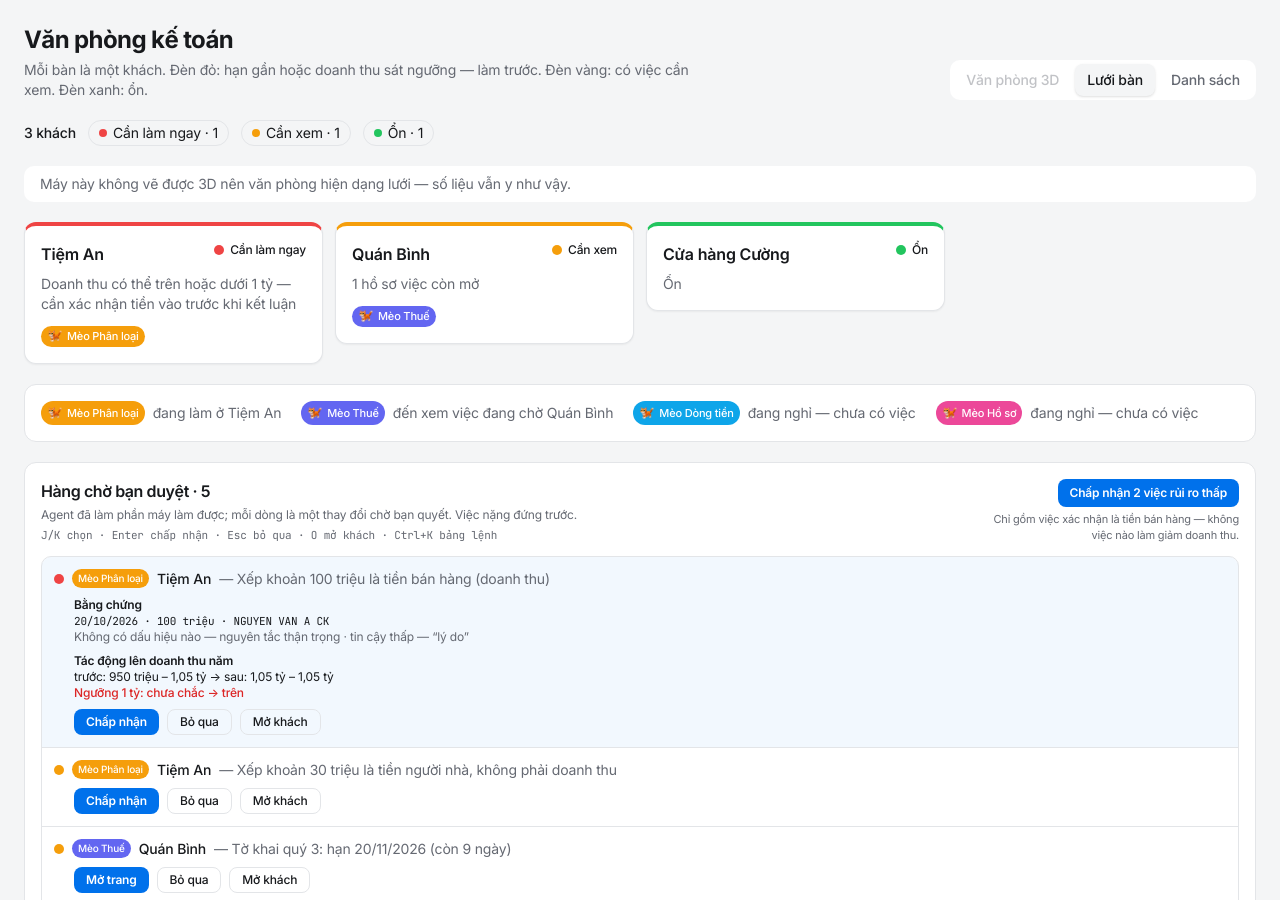
hàng duyệt kiểu Cursor › Ctrl+K mở bảng lệnh: gõ tên khách không dấu, Enter mở khách đó
Press k
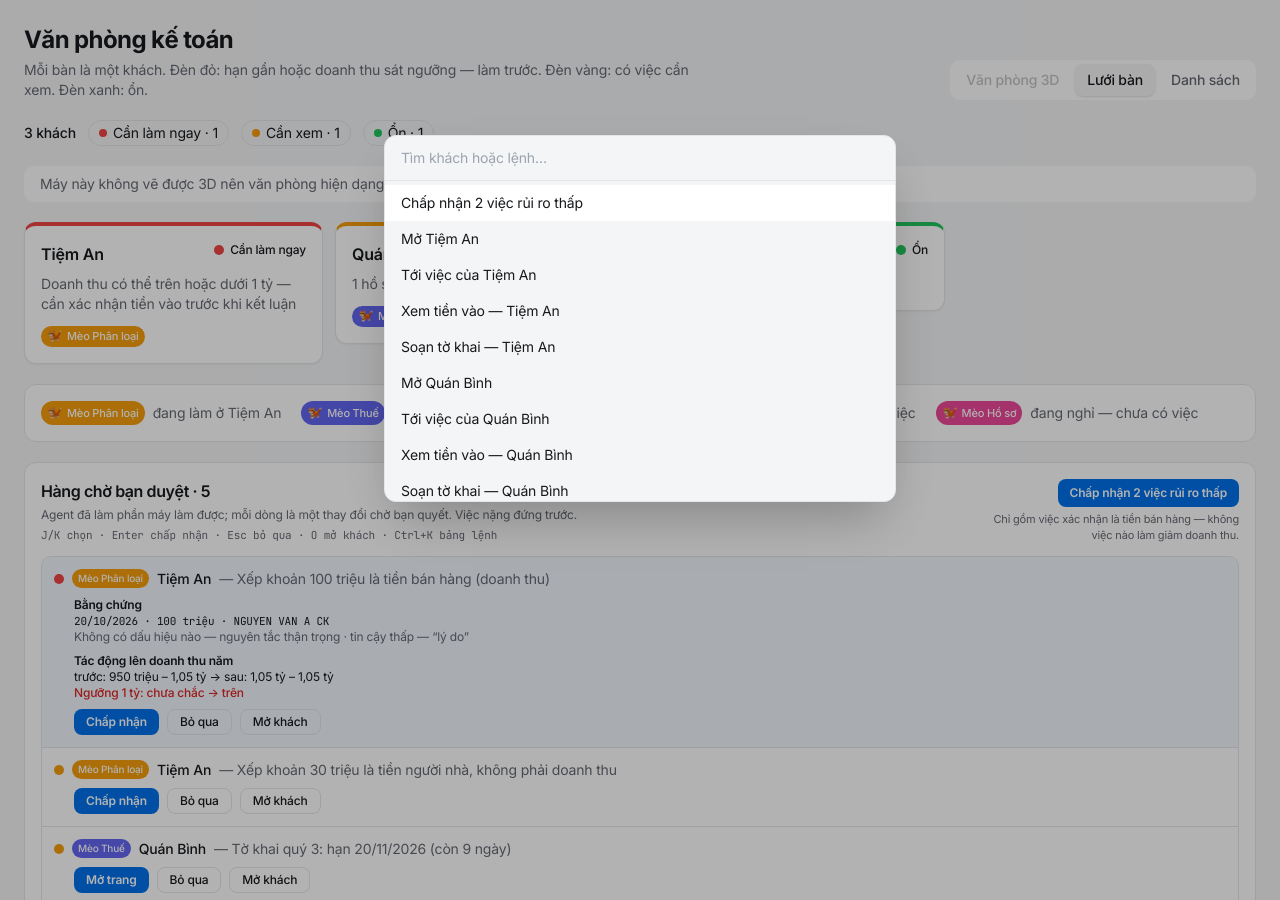
In the field: (640, 158) x1=385 y1=136 x2=895 y2=181, type "mo quan binh"
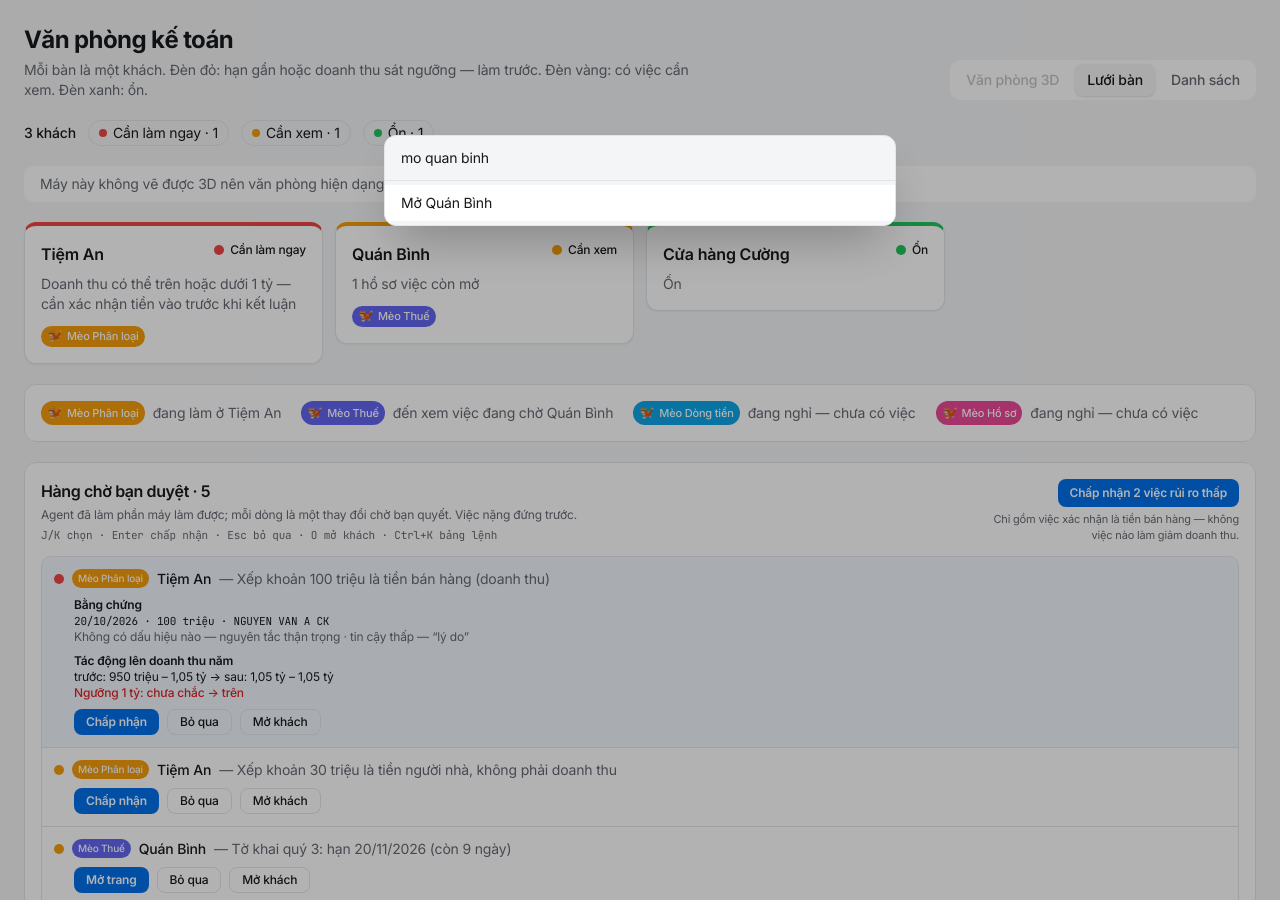
Press Enter in the field, box x1=385 y1=136 x2=895 y2=181
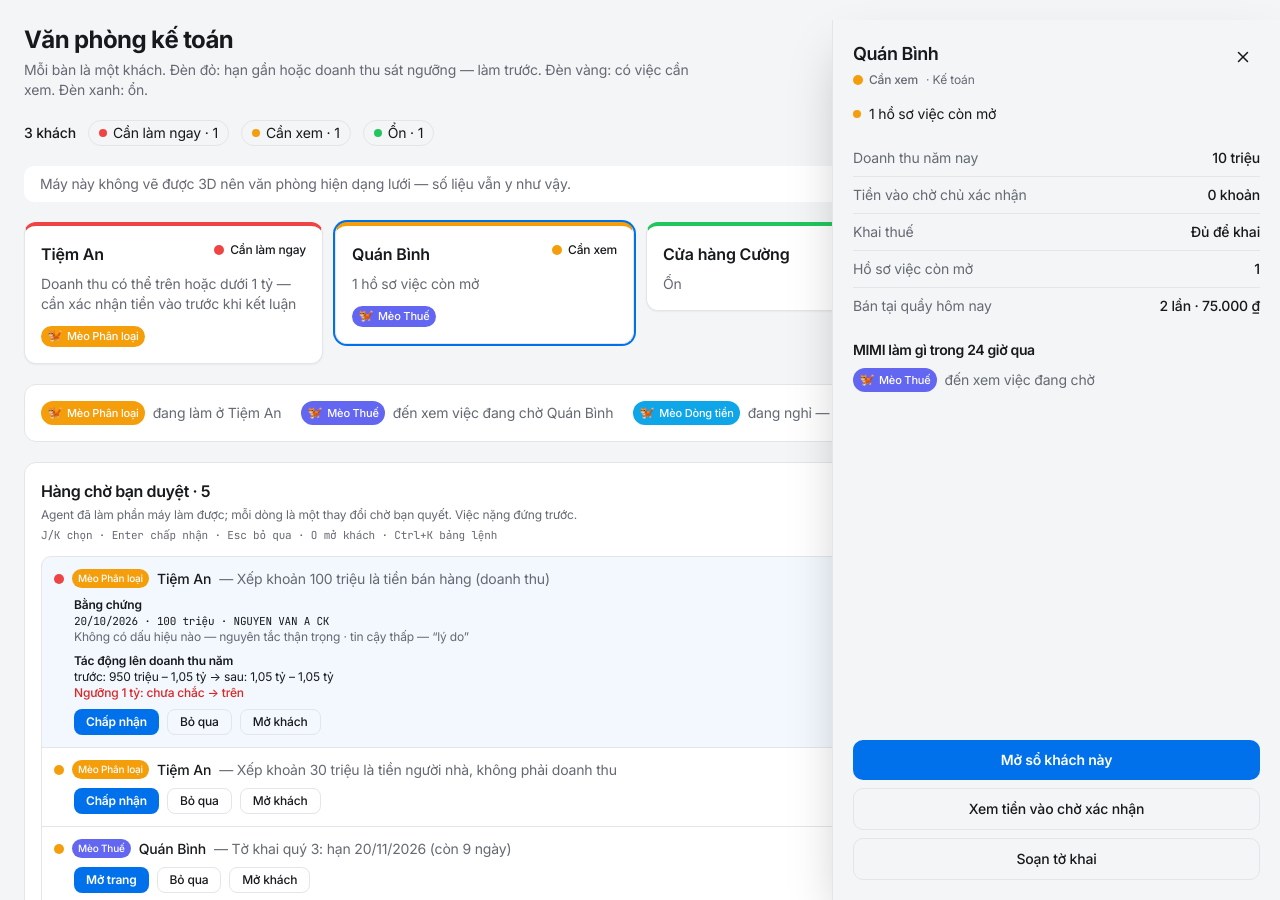
Expected: the dialog with test id "bang-lenh" is gone
Expected: the dialog with test id "bang-khach" shows "Quán Bình", x1=853 y1=43 x2=938 y2=64
